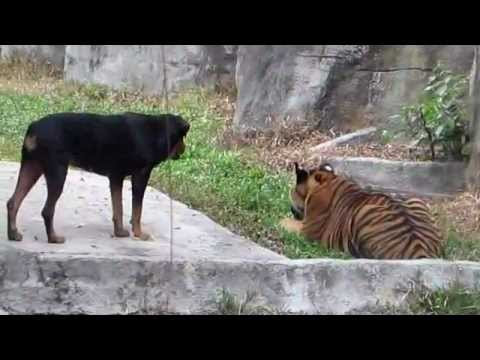dog: (3, 109, 188, 243)
tiger: (285, 158, 443, 261)
